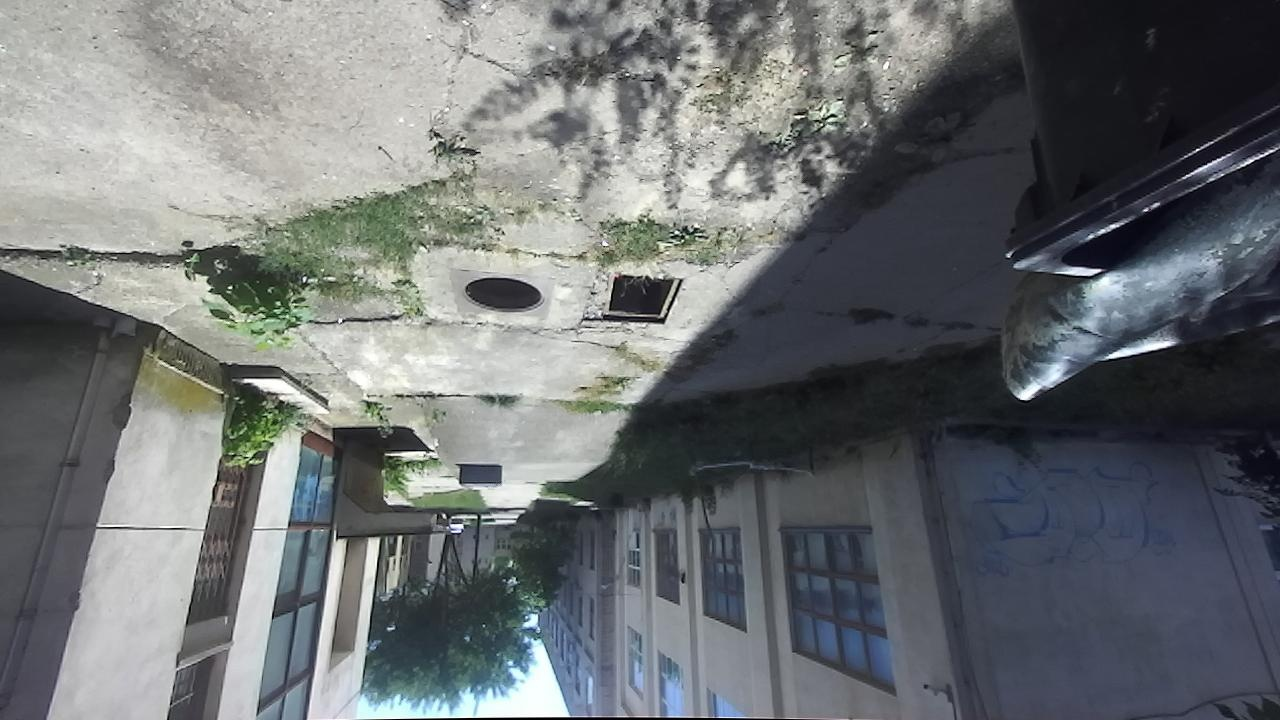drain: (603, 275, 687, 325), (460, 277, 550, 317)
